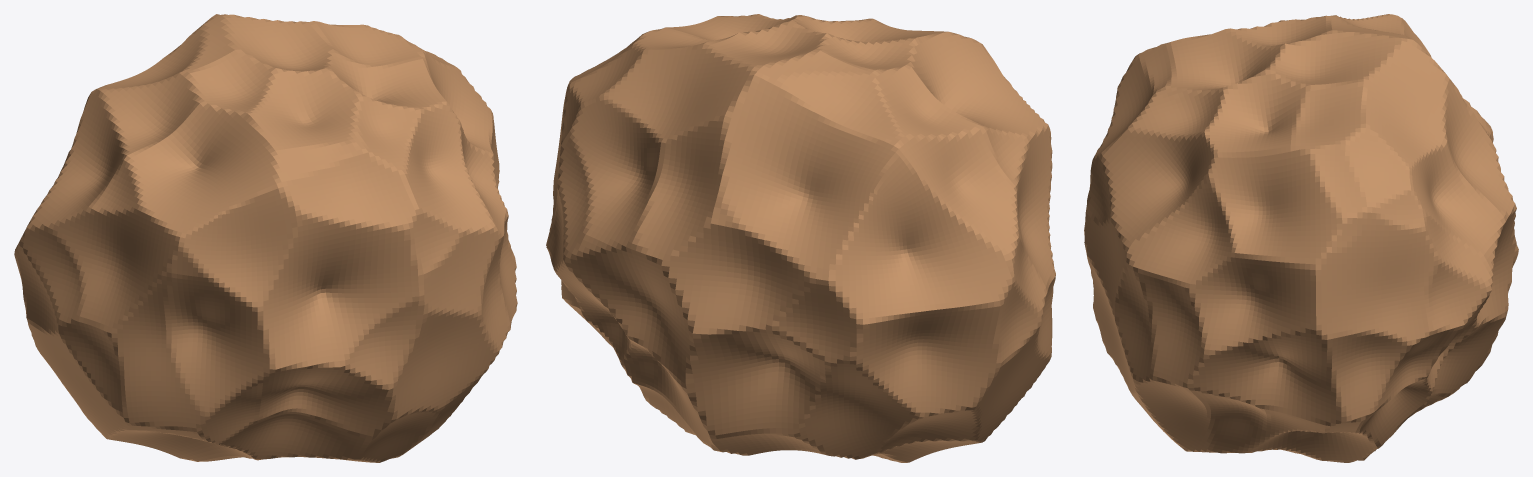
The model's file is Rock-1.glb.
3 views of the same model, side by side, from view 1: azimuth 30°, elevation 25°; view 2: azimuth 150°, elevation 25°; view 3: azimuth 270°, elevation 25° (orthographic). The views are drawn at different scales.
Parts seen in each view (by area): view 1: Cube; view 2: Cube; view 3: Cube.
Boxes of the visible parts, x1,y1,x2,y2 form: Cube: (14, 14, 517, 462); Cube: (546, 14, 1055, 462); Cube: (1084, 14, 1518, 462).
Size of the model in its own units: 5.69 by 4.64 by 4.71.
